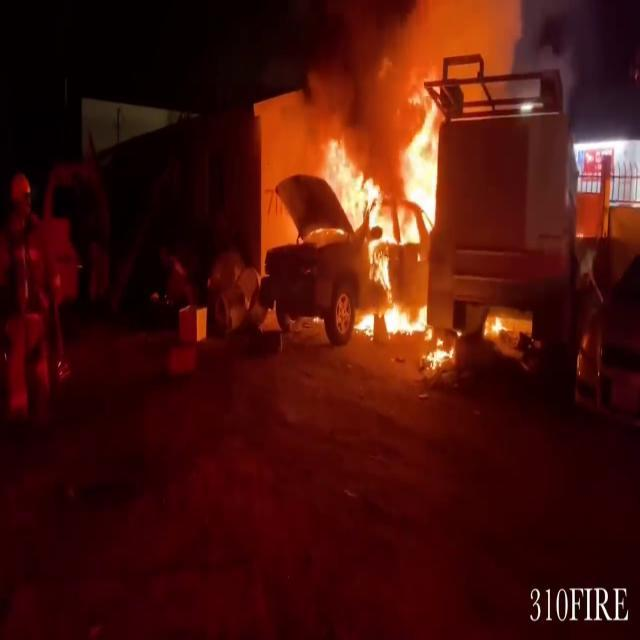Fire: (328, 76, 452, 344)
